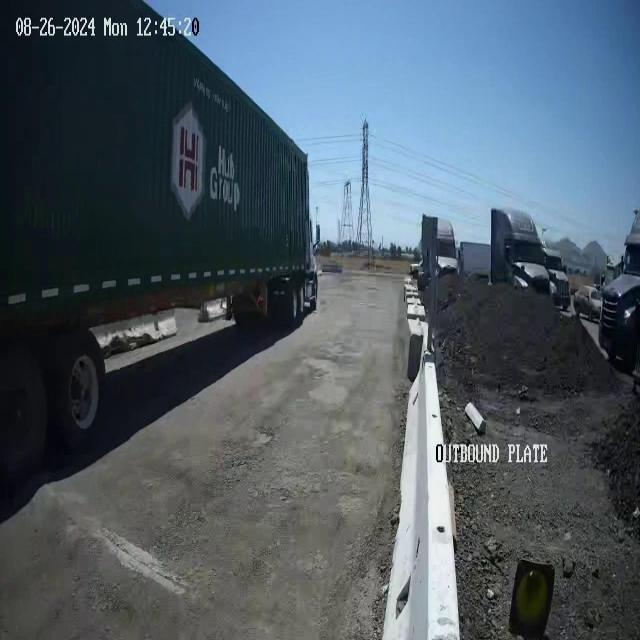TRUCK_CONTAINER: (1, 1, 320, 467)
